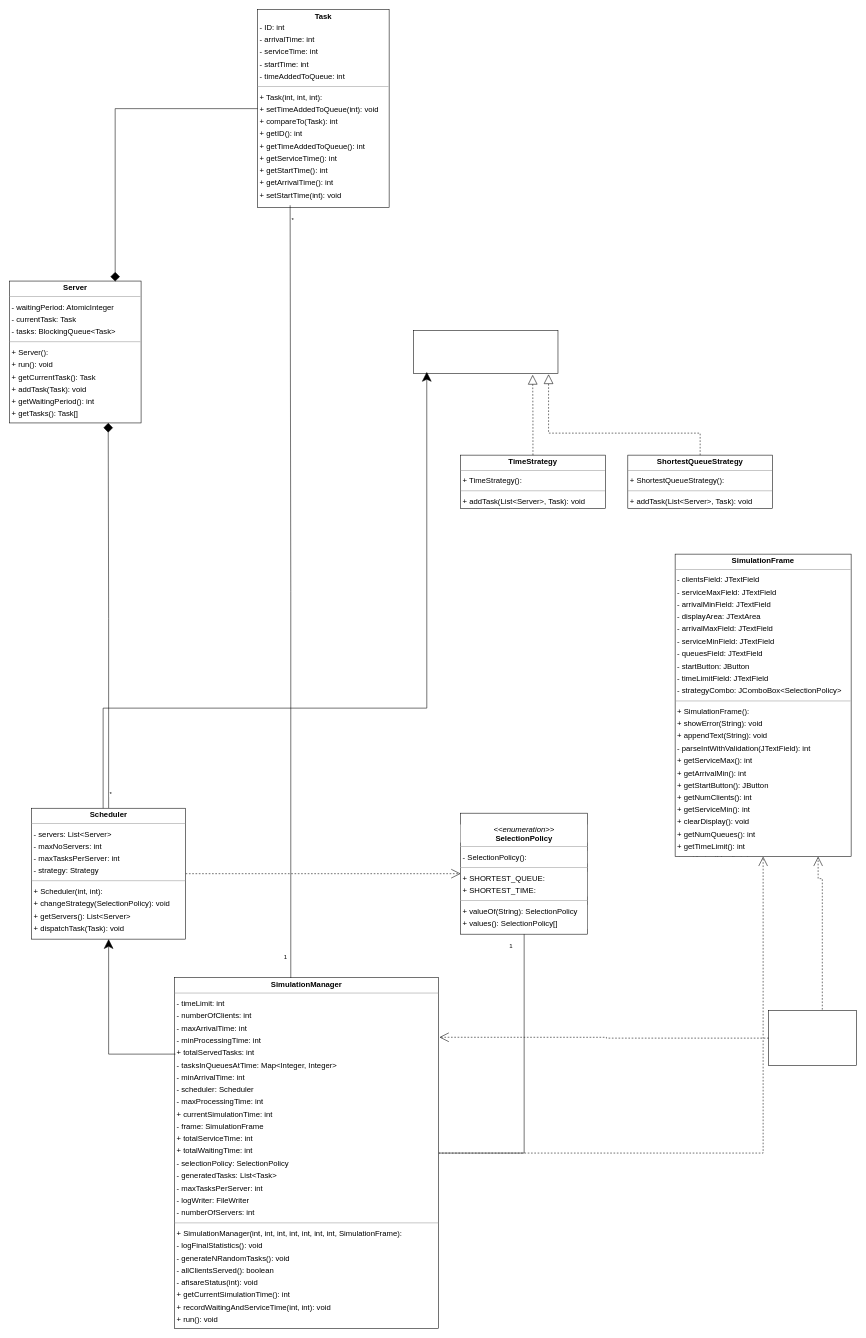
This 866x1338 diagram has some shape labels left out. The shapes that lost their labels are listed below. From the top down, each one's centre as x and y in pixels, then its label:
At [485,352]: "<<interface>> Strategy + addTask(List<Server>, Task): void".
At [812,1038]: "Main + Main(): + main(String[]): void".
